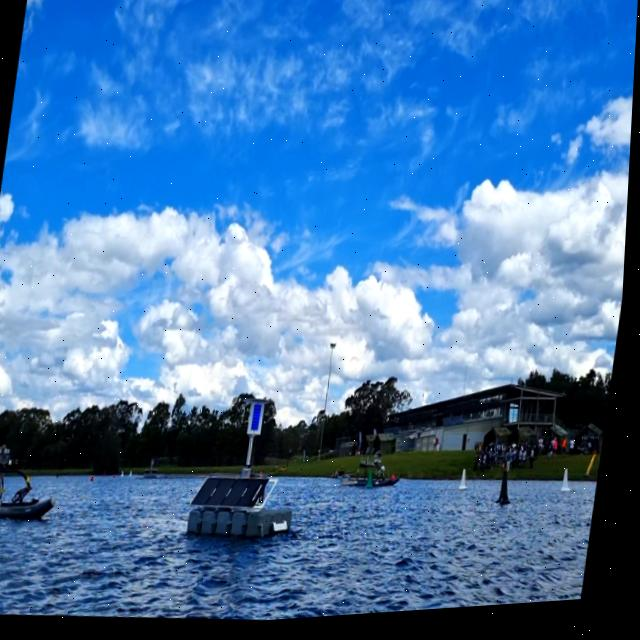led: (253, 405, 268, 438)
